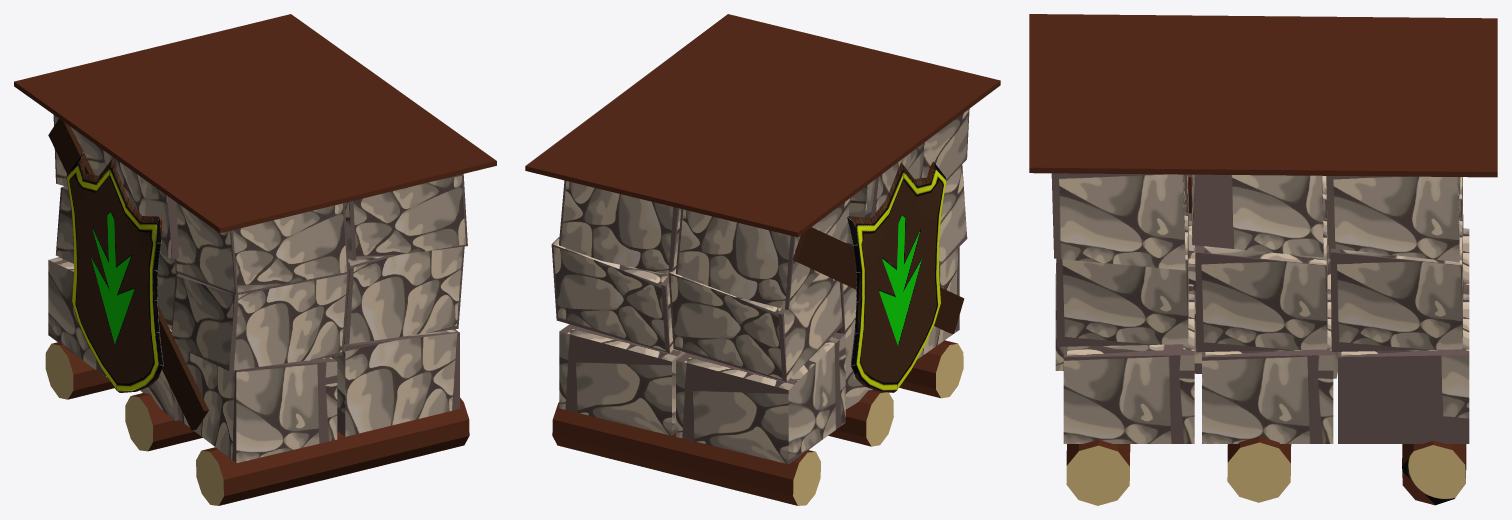
The model's file is Tower1_Animated.fbx.
3 views of the same model, side by side, from view 1: azimuth 30°, elevation 25°; view 2: azimuth 150°, elevation 25°; view 3: azimuth 270°, elevation 25° (orthographic). The views are drawn at different scales.
Parts seen in each view (by area): view 1: Tower_BODY, Wheel3, Wheel2, Wheel1; view 2: Tower_BODY, Wheel1, Wheel3, Wheel2; view 3: Tower_BODY, Wheel3, Wheel1, Wheel2.
Part boxes in pixels (<box>): Tower_BODY: <box>14,14,496,462</box>; Wheel3: <box>196,397,469,505</box>; Wheel2: <box>125,393,202,451</box>; Wheel1: <box>45,342,114,399</box>; Tower_BODY: <box>525,14,1000,464</box>; Wheel1: <box>552,402,820,505</box>; Wheel3: <box>899,340,963,398</box>; Wheel2: <box>828,390,893,446</box>; Tower_BODY: <box>1029,14,1497,443</box>; Wheel3: <box>1066,439,1130,505</box>; Wheel1: <box>1402,440,1466,505</box>; Wheel2: <box>1227,436,1291,502</box>.
Bounding box in the file's own units: 9.99 × 10.29 × 12.6.
